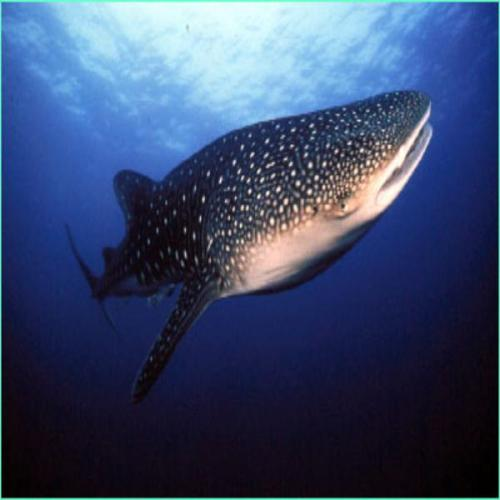shark-endangered: (63, 90, 435, 417)
